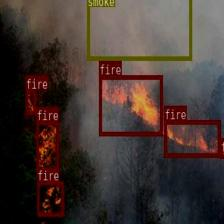fire: (99, 75, 162, 135), (164, 119, 220, 156), (36, 121, 58, 173), (36, 181, 64, 216), (25, 89, 36, 114), (220, 138, 224, 157)
smoke: (86, 0, 191, 59)
